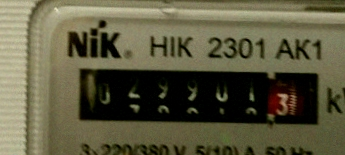0: (94, 78, 112, 105), (213, 74, 229, 104)
1: (244, 74, 257, 102)
2: (124, 72, 142, 100)
3: (272, 90, 290, 116)
9: (154, 73, 170, 100), (185, 75, 198, 102)
screen: (68, 57, 330, 135)
